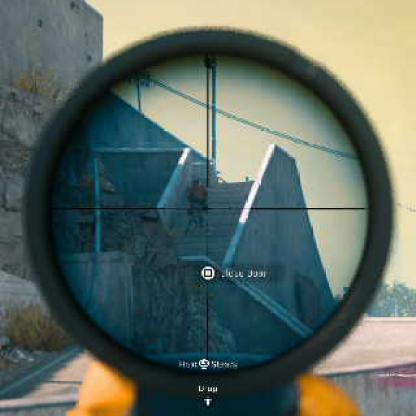enemy: (183, 180, 211, 228)
